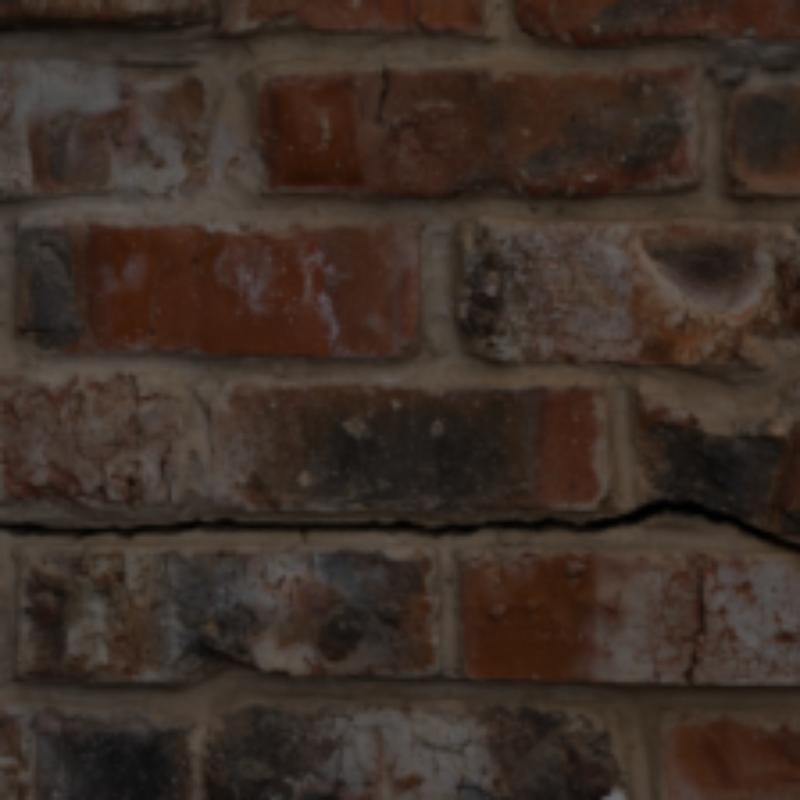crack: (0, 500, 796, 550), (686, 568, 707, 682)
